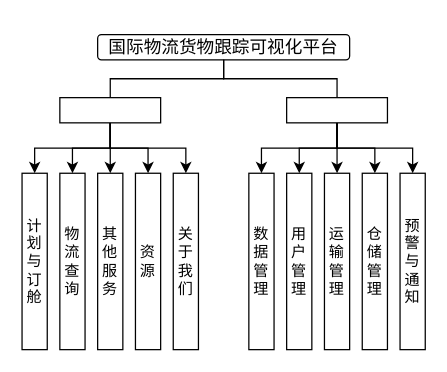
The diagram is 447 pixels wide and 372 high, and some of its shapes have lost their labels. Each missing label, with the centre of its shape:
用户: [110,109]
管理员: [336,109]
